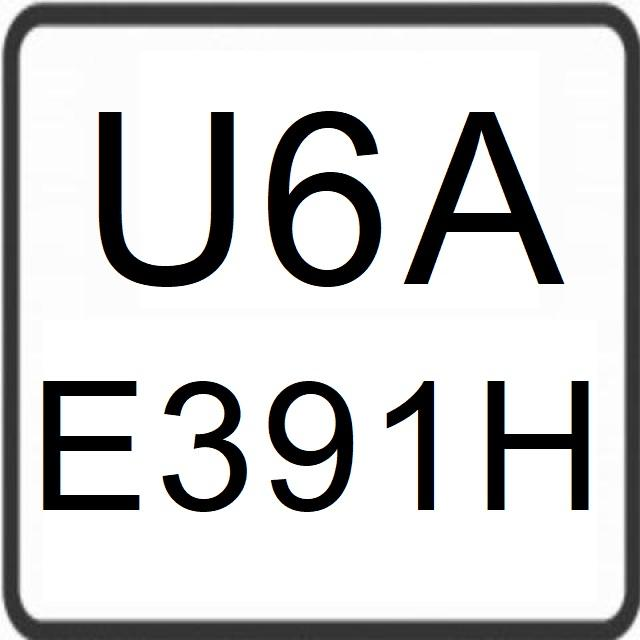1: (381, 367, 447, 521)
3: (160, 370, 252, 516)
6: (265, 106, 392, 293)
9: (264, 370, 358, 518)
A: (404, 105, 566, 291)
E: (38, 368, 150, 521)
H: (474, 371, 598, 519)
U: (87, 99, 244, 292)
